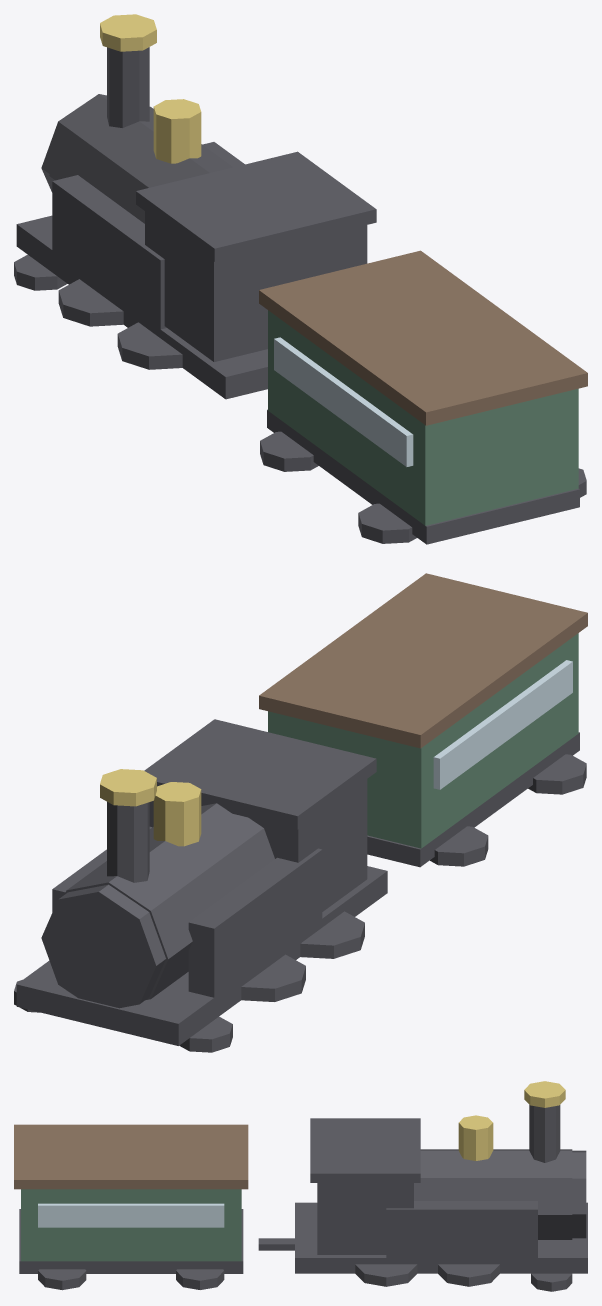
Rendered from vehicle_train.glb.
3 views of the same model, one above another, from view 1: azimuth 30°, elevation 25°; view 2: azimuth 150°, elevation 25°; view 3: azimuth 270°, elevation 25° (orthographic). The views are drawn at different scales.
Parts seen in each view (by area): view 1: Coach_Roof, Coach_Body, Loco_Cab_Roof, Loco_Cab_Base, Loco_Tank_L, Loco_Boiler, Loco_Frame, Coach_Chassis, Coach_Windows_L, Loco_Stack, Loco_Dome, Wheel_Driver1_-0.19 (+6 smaller); view 2: Coach_Roof, Coach_Body, Loco_Cab_Roof, Loco_Boiler, Loco_Tank_L, Loco_Smokebox, Loco_Frame, Loco_Cab_Base, Coach_Windows_L, Coach_Chassis, Loco_Stack, Loco_Dome (+7 smaller); view 3: Coach_Roof, Coach_Body, Loco_Boiler, Loco_Tank_R, Loco_Cab_Roof, Loco_Frame, Loco_Cab_Base, Coach_Windows_R, Coach_Chassis, Loco_Stack, Loco_Dome, Loco_Smokebox (+7 smaller).
Part boxes in pixels (<box>): Coach_Roof: <box>259,250,587,425</box>; Coach_Body: <box>268,310,578,525</box>; Loco_Cab_Roof: <box>136,151,376,261</box>; Loco_Cab_Base: <box>145,211,367,361</box>; Loco_Tank_L: <box>52,175,166,329</box>; Loco_Boiler: <box>49,100,232,223</box>; Loco_Frame: <box>16,215,267,399</box>; Coach_Chassis: <box>267,409,579,544</box>; Coach_Windows_L: <box>274,337,413,466</box>; Loco_Stack: <box>107,47,149,127</box>; Loco_Dome: <box>153,99,201,163</box>; Wheel_Driver1_-0.19: <box>58,279,123,326</box>; Coach_Roof: <box>259,573,587,748</box>; Coach_Body: <box>268,633,578,848</box>; Loco_Cab_Roof: <box>144,719,376,829</box>; Loco_Boiler: <box>65,803,274,1000</box>; Loco_Tank_L: <box>188,848,322,997</box>; Loco_Smokebox: <box>41,884,165,1008</box>; Loco_Frame: <box>16,866,387,1045</box>; Loco_Cab_Base: <box>149,779,367,911</box>; Coach_Windows_L: <box>433,660,572,789</box>; Coach_Chassis: <box>367,732,579,867</box>; Loco_Stack: <box>107,802,149,882</box>; Loco_Dome: <box>153,782,201,846</box>; Coach_Roof: <box>14,1124,248,1189</box>; Coach_Body: <box>21,1189,241,1261</box>; Loco_Boiler: <box>414,1149,572,1239</box>; Loco_Tank_R: <box>386,1201,537,1259</box>; Loco_Cab_Roof: <box>310,1118,420,1182</box>; Loco_Frame: <box>295,1202,587,1273</box>; Loco_Cab_Base: <box>317,1183,413,1254</box>; Coach_Windows_R: <box>38,1203,224,1227</box>; Coach_Chassis: <box>19,1209,243,1273</box>; Loco_Stack: <box>529,1105,560,1162</box>; Loco_Dome: <box>458,1115,493,1160</box>; Loco_Smokebox: <box>572,1150,586,1238</box>.
Bounding box in the file's own units: 0.56 × 0.53 × 1.66.
